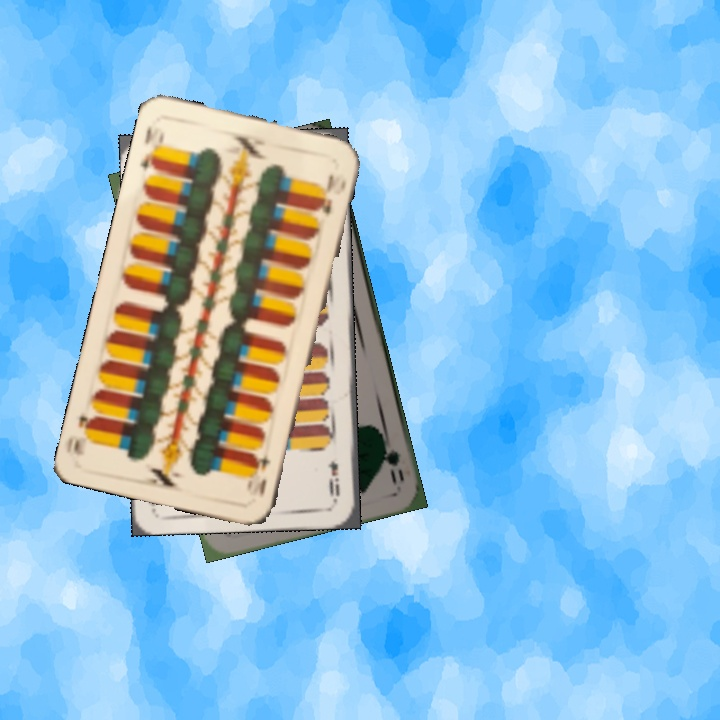E10: (136, 121, 167, 174), (248, 443, 273, 501)
E9: (324, 456, 342, 503)
GO: (377, 429, 407, 487)
